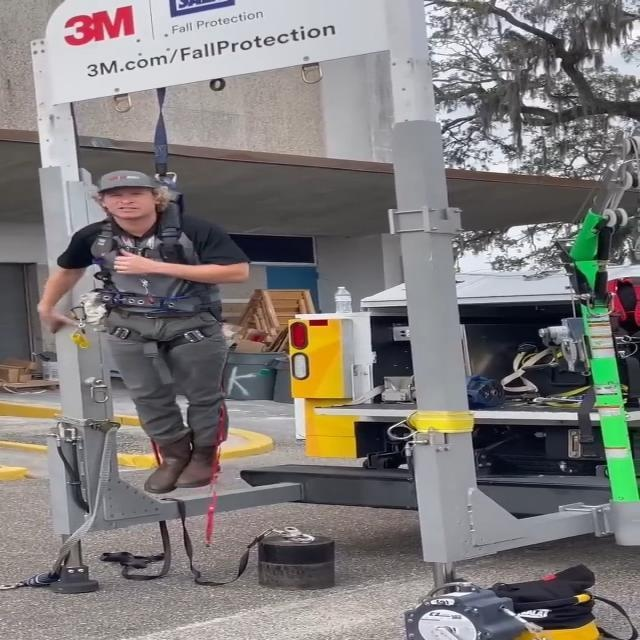Arnes_seguridad: (65, 166, 239, 354)
